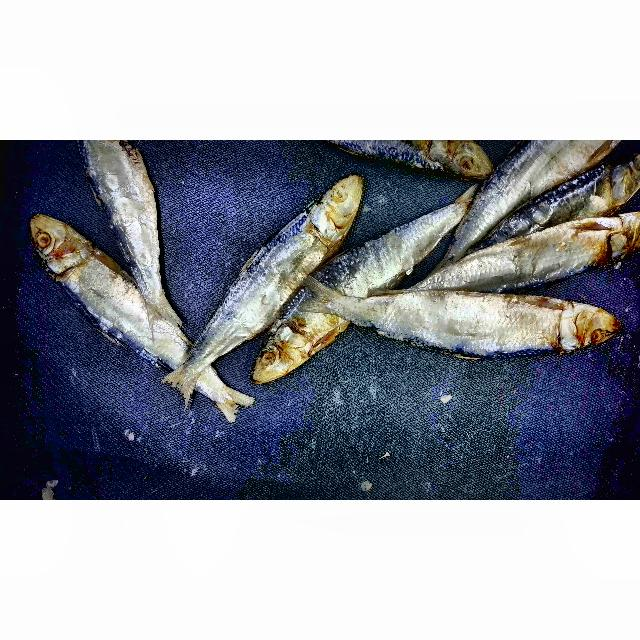Grade_C_Body: (372, 287, 567, 361), (77, 142, 187, 266), (218, 217, 327, 333), (474, 212, 618, 295), (331, 201, 442, 298), (493, 141, 600, 209), (519, 171, 621, 233)
Grade_C_Head: (23, 208, 101, 287), (297, 168, 369, 247), (552, 289, 623, 357), (252, 313, 314, 386), (410, 140, 498, 177)
Grade_C_Tail: (59, 244, 191, 375), (82, 273, 185, 368), (298, 272, 350, 321), (164, 353, 204, 409), (139, 280, 179, 333), (208, 385, 257, 427)
